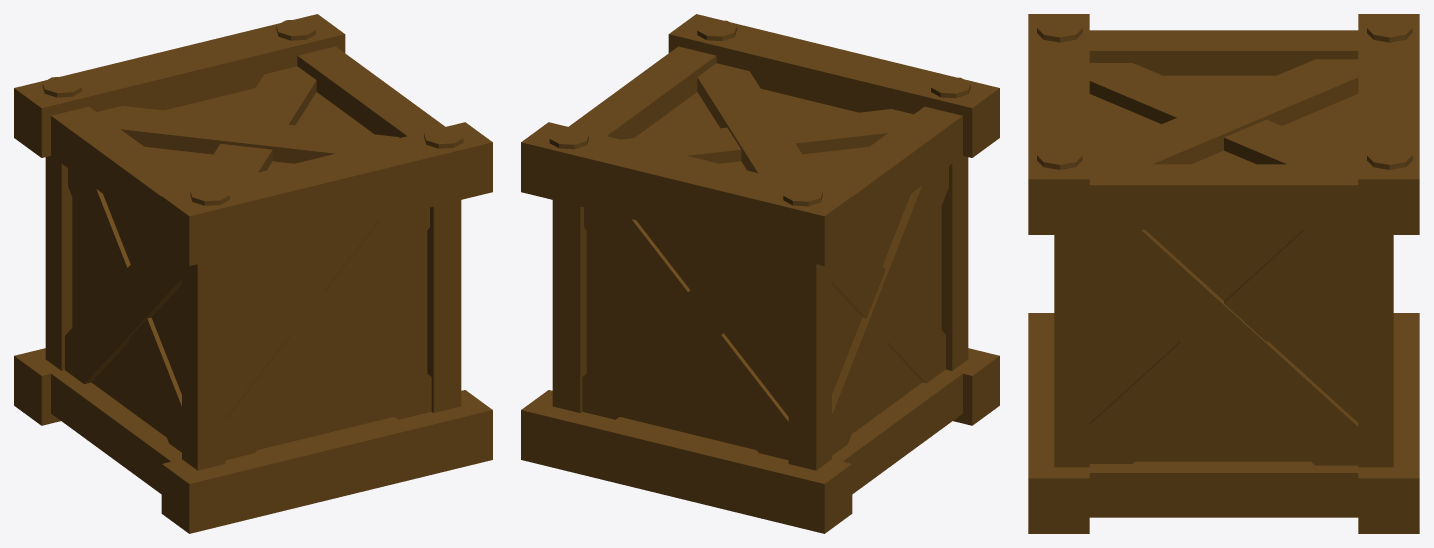
3 views of the same model, side by side, from view 1: azimuth 30°, elevation 25°; view 2: azimuth 150°, elevation 25°; view 3: azimuth 270°, elevation 25° (orthographic). The views are drawn at different scales.
Visible parts, largest first — view 1: Caja1; view 2: Caja1; view 3: Caja1.
Boxes of the visible parts, bbox=[...] form: Caja1: bbox=[14, 14, 492, 533]; Caja1: bbox=[521, 14, 999, 533]; Caja1: bbox=[1028, 14, 1419, 533].
Bounding box in the file's own units: 1.15 × 1.17 × 1.15.
